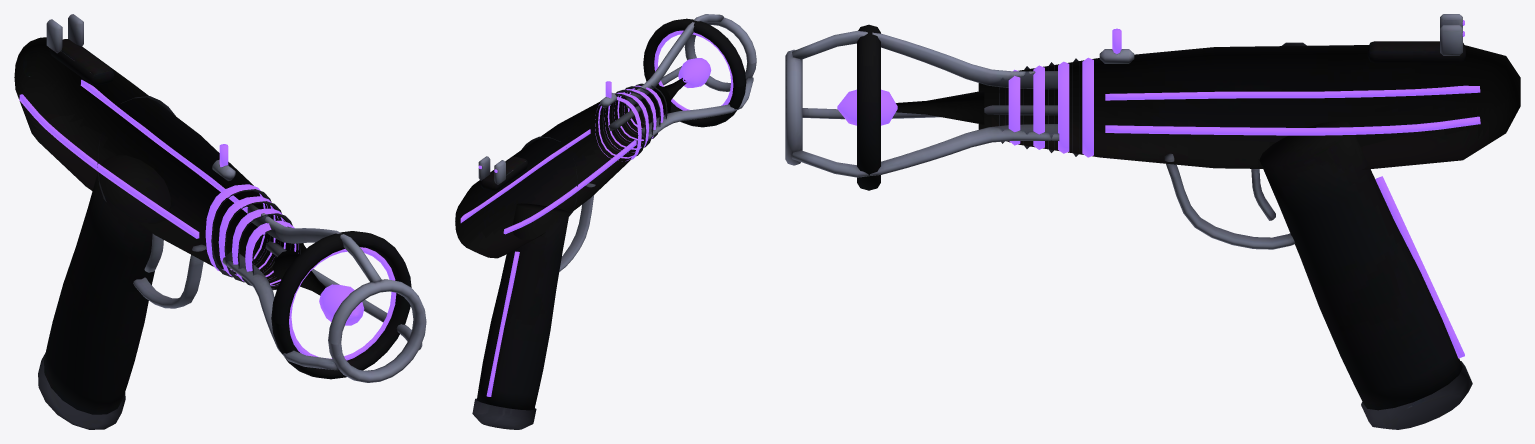
File: graviton.glb
3 views of the same model, side by side, from view 1: azimuth 30°, elevation 25°; view 2: azimuth 150°, elevation 25°; view 3: azimuth 270°, elevation 25° (orthographic). The views are drawn at different scales.
Parts seen in each view (by area): view 1: Graviton; view 2: Graviton; view 3: Graviton.
Boxes of the visible parts, x1=… form: Graviton: x1=14, y1=14, x2=426, y2=429; Graviton: x1=455, y1=14, x2=756, y2=429; Graviton: x1=785, y1=14, x2=1520, y2=429.
Size of the model in its own units: 0.0576 by 0.1553 by 0.255.
Materials: 2 (1 with a texture image).
